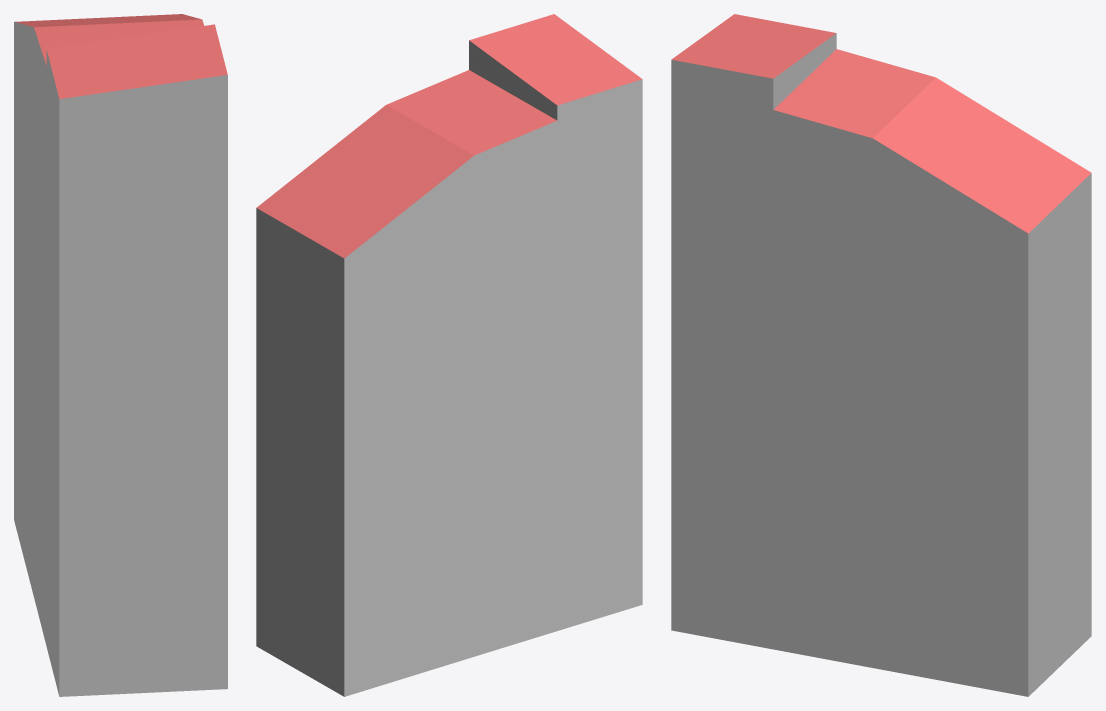
File: DEBY_LOD2_4906978.gltf
3 renders of one model, left to right at view 1: azimuth 30°, elevation 25°; view 2: azimuth 150°, elevation 25°; view 3: azimuth 270°, elevation 25°, orthographic. The views are drawn at different scales.
Parts seen in each view (by area): view 1: Z_UP; view 2: Z_UP; view 3: Z_UP.
Boxes of the visible parts, x1,y1,x2,y2 form: Z_UP: (14, 14, 227, 696); Z_UP: (256, 14, 642, 696); Z_UP: (671, 14, 1091, 696).
Bounding box in the file's own units: 10.54 × 22.01 × 14.69.
